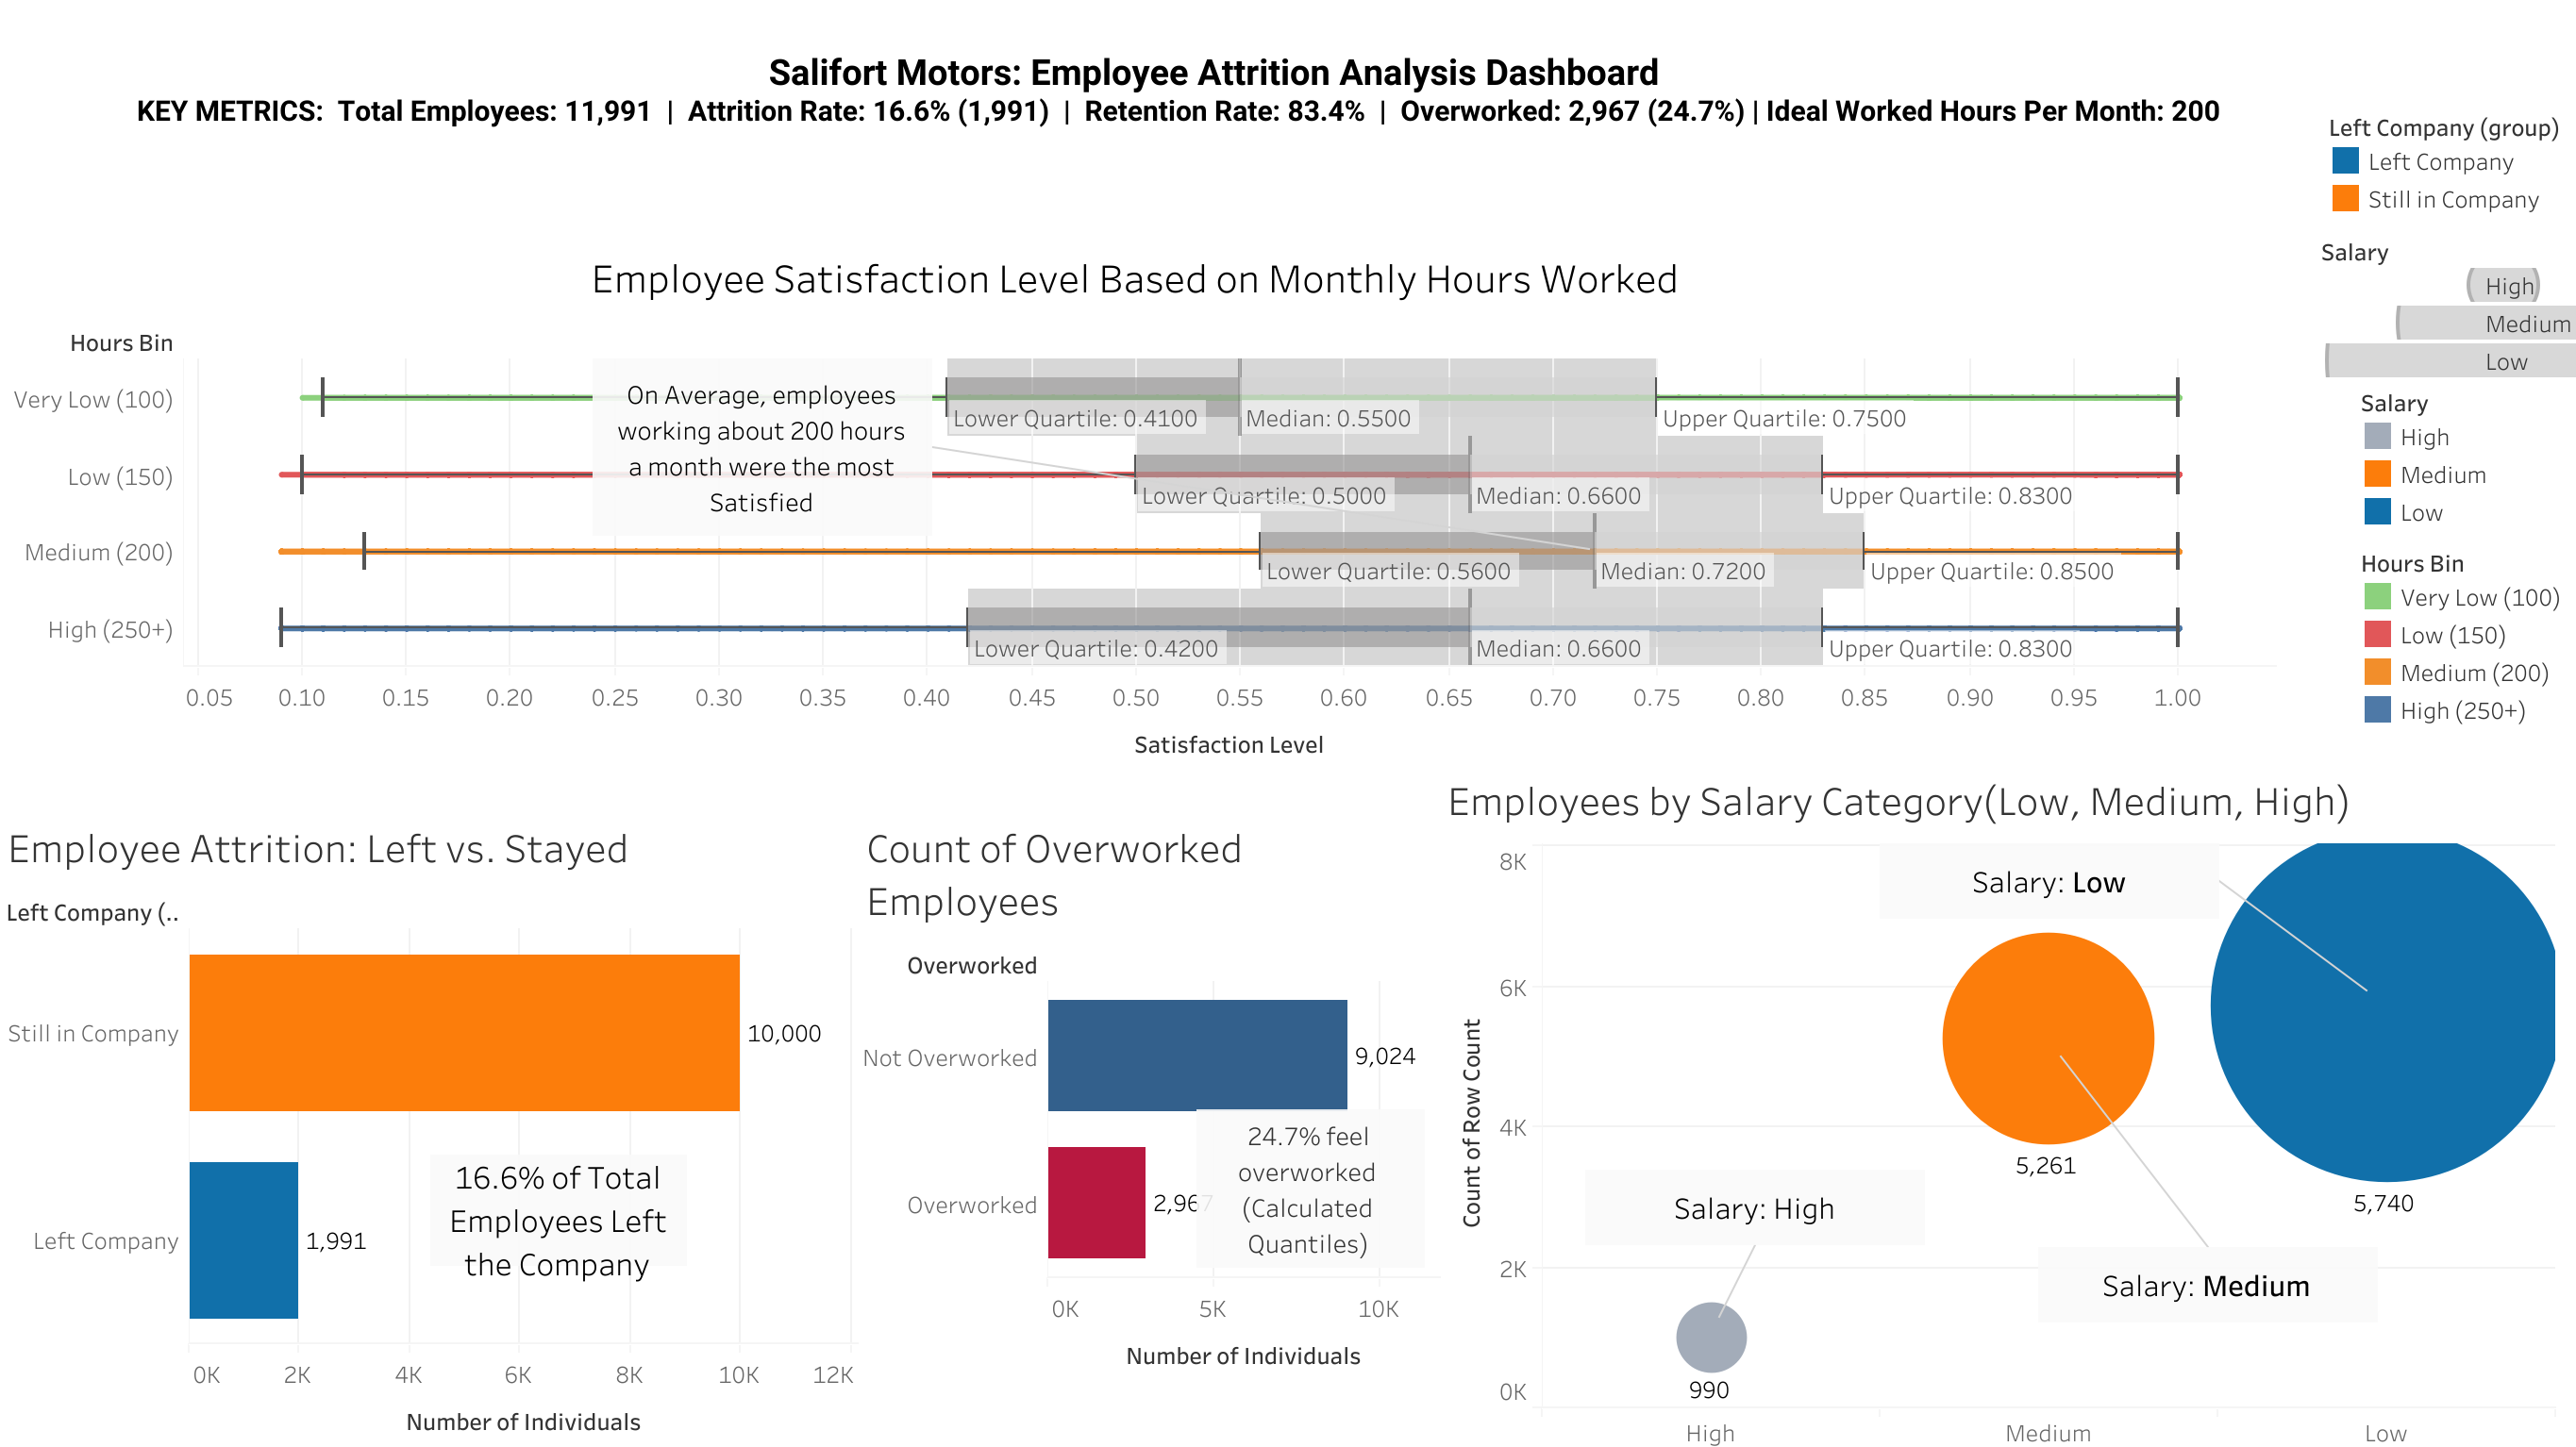

The dashboard page shown, as its layout file describes it:
{"tool":"tableau","page":{"name":"Dashboard 1","canvas":[1366,768],"ordinal":0},"visuals":[{"type":"text","box":[28,13,1193,68]},{"type":"legend","title":"Sheet 1","param":"[federated.1ksxddq0spdjn91arffd70iurafw].[Left Company (group)]","box":[1233,56,136,59]},{"type":"legend","title":"Sheet 7","param":"[federated.1ksxddq0spdjn91arffd70iurafw].[none:salary:nk]","box":[1229,122,136,79]},{"type":"worksheet","title":"Sheet 7","mark":"Circle","rows":["Calculation_0001045077385218"],"cols":["salary"],"box":[763,404,591,364]},{"type":"worksheet","title":"Sheet 1","mark":"Automatic","cols":["Calculation_0001045077385218"],"box":[0,429,455,340]},{"type":"worksheet","title":"Sheet 18","mark":"Automatic","rows":["overworked"],"box":[455,429,308,305]}]}

Visuals, with their boxes in screenshot pixels (x1, y1, x2, y2), scaled from the page's 1366x768 canvas onto the 2576x1447 screenshot:
text: [left=53, top=25, right=2302, bottom=153]
"Sheet 1" legend: [left=2325, top=106, right=2575, bottom=217]
"Sheet 7" legend: [left=2317, top=230, right=2574, bottom=378]
"Sheet 7" worksheet (Circle marks): [left=1439, top=761, right=2553, bottom=1446]
"Sheet 1" worksheet: [left=0, top=808, right=858, bottom=1446]
"Sheet 18" worksheet: [left=858, top=808, right=1439, bottom=1383]
